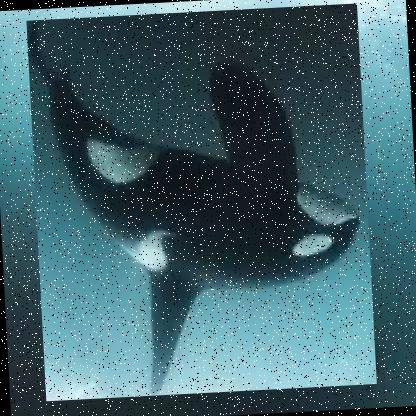killer_whale: (26, 3, 378, 402)
